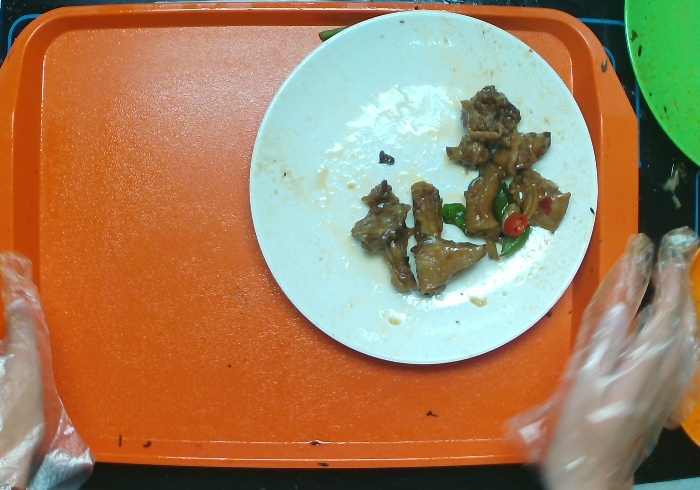HZYJPL-Bai_Se_Yuan_Pan: (245, 4, 610, 373)
